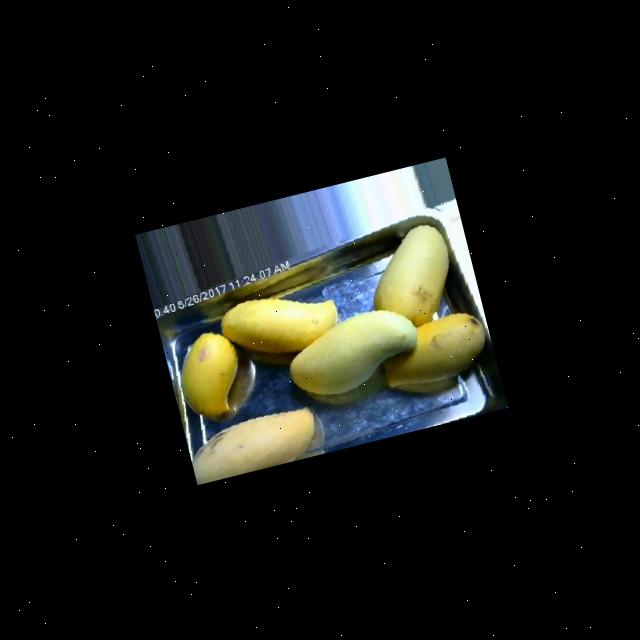Mango: (278, 300, 426, 404), (356, 217, 462, 333), (371, 304, 495, 402), (183, 401, 323, 483), (214, 278, 342, 366), (168, 324, 250, 424)
